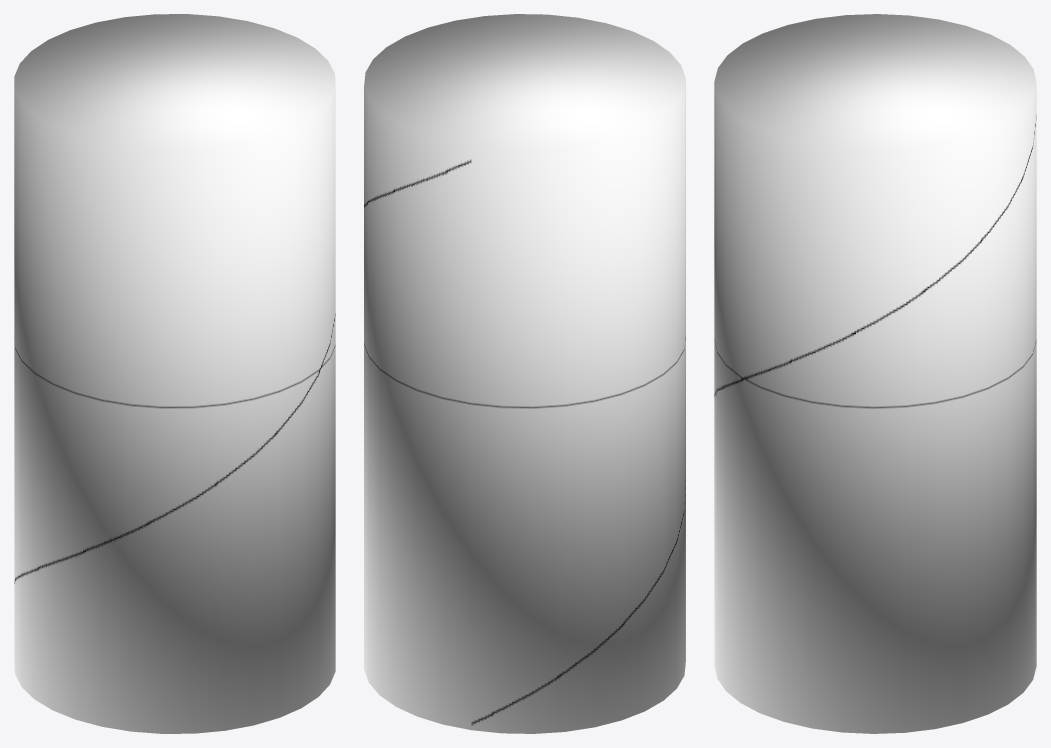
File: CylinderB.obj
The picture shows the model from 3 angles, left to right: view 1: azimuth 30°, elevation 25°; view 2: azimuth 150°, elevation 25°; view 3: azimuth 270°, elevation 25°; orthographic projection.
Parts seen in each view (by area): view 1: Cylinder; view 2: Cylinder; view 3: Cylinder.
Part boxes in pixels (x1,y1,x2,y2): Cylinder: [14, 14, 335, 733]; Cylinder: [364, 14, 685, 733]; Cylinder: [714, 14, 1036, 733].
Bounding box in the file's own units: 2 × 4 × 2.
1 material, 1 textured.
